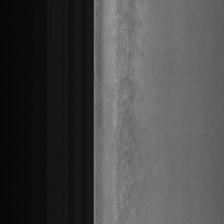silk_spot: (110, 18, 148, 208)
